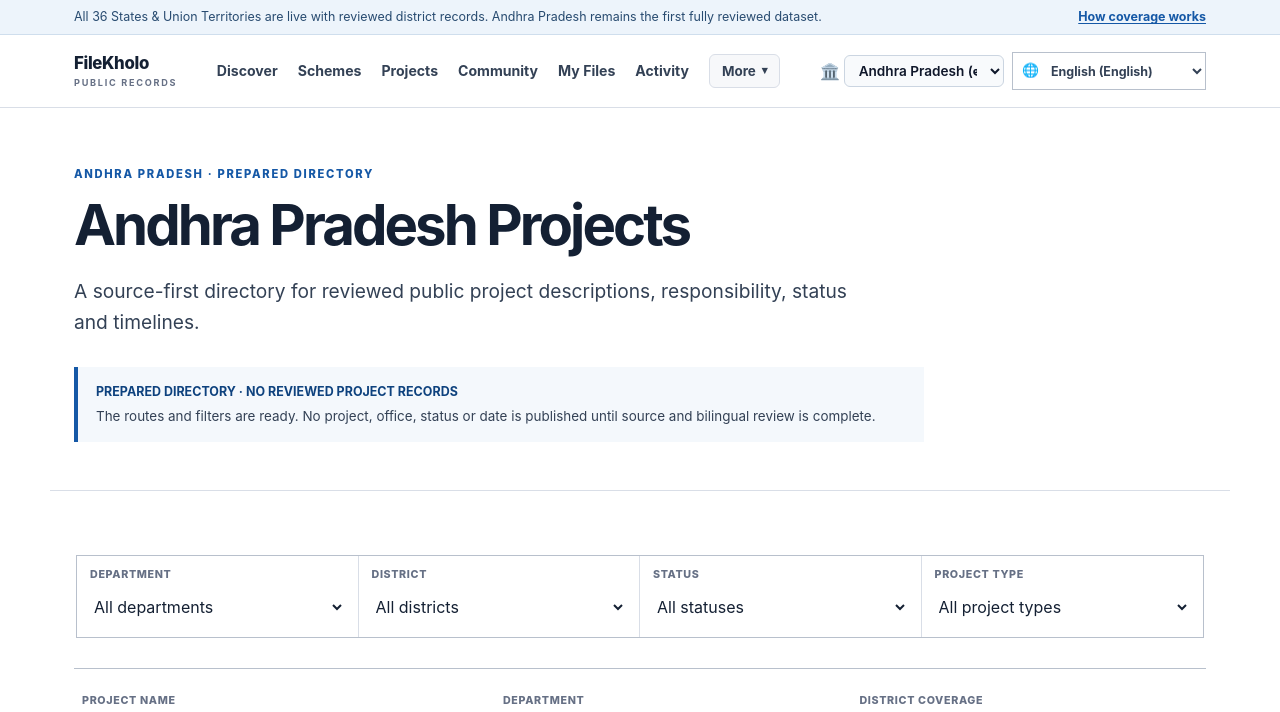
ProjectsDirectory › renders bilingual claims, timeline and all four native filters
Select "Test District" in the dropdown labelled "District" at (499, 607), box [372,588,626,626]
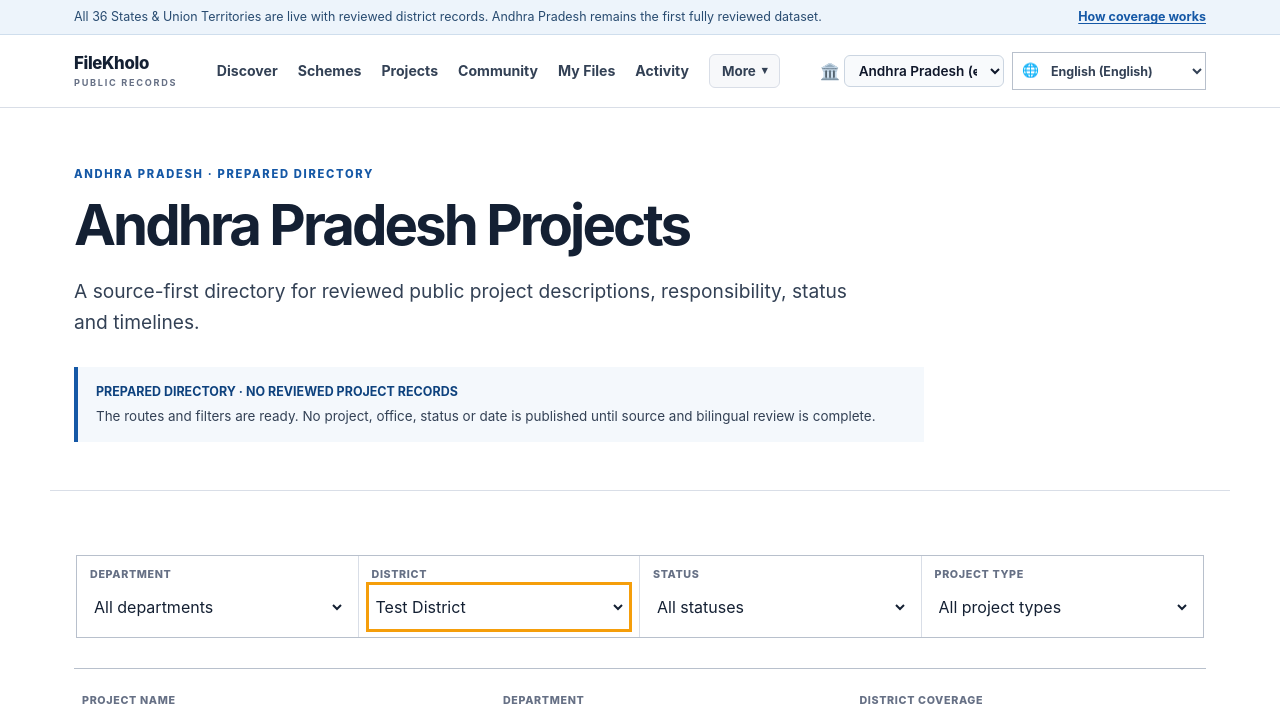
Select "In progress" in the dropdown labelled "Status" at (780, 607), box [653,588,908,626]
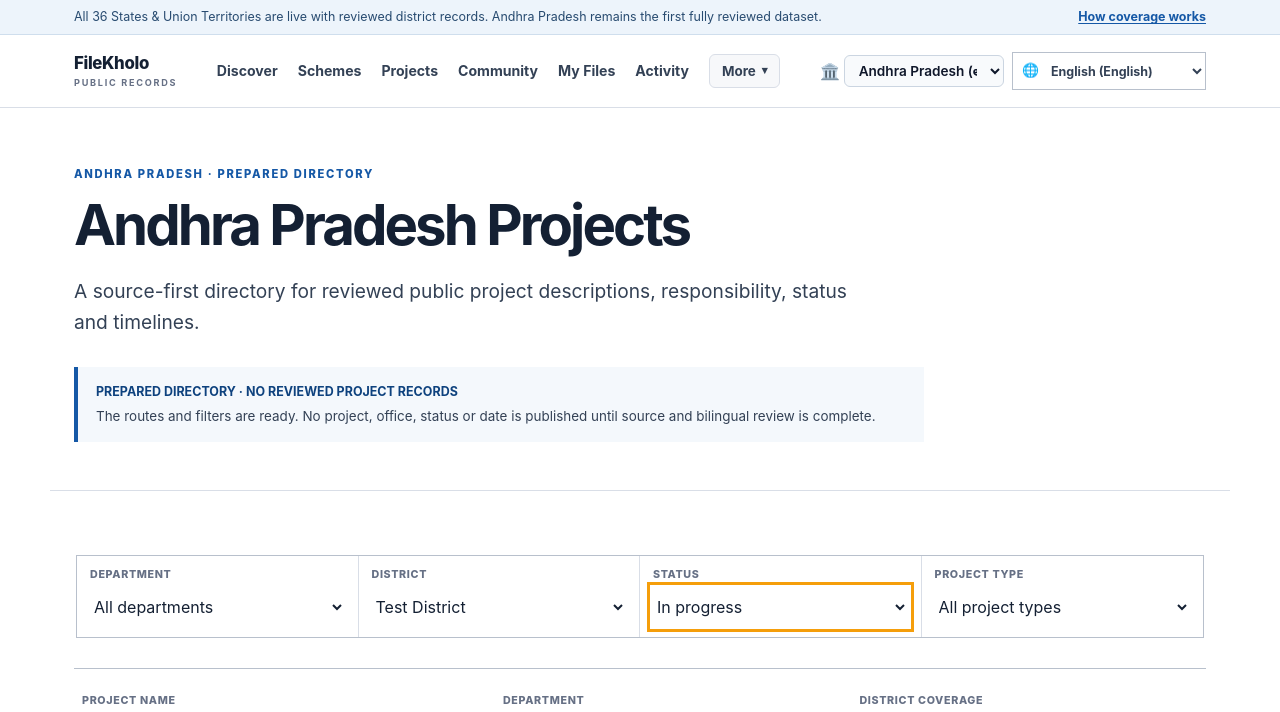
Select "Water infrastructure" in the dropdown labelled "Project type" at (1062, 607), box [934,588,1190,626]
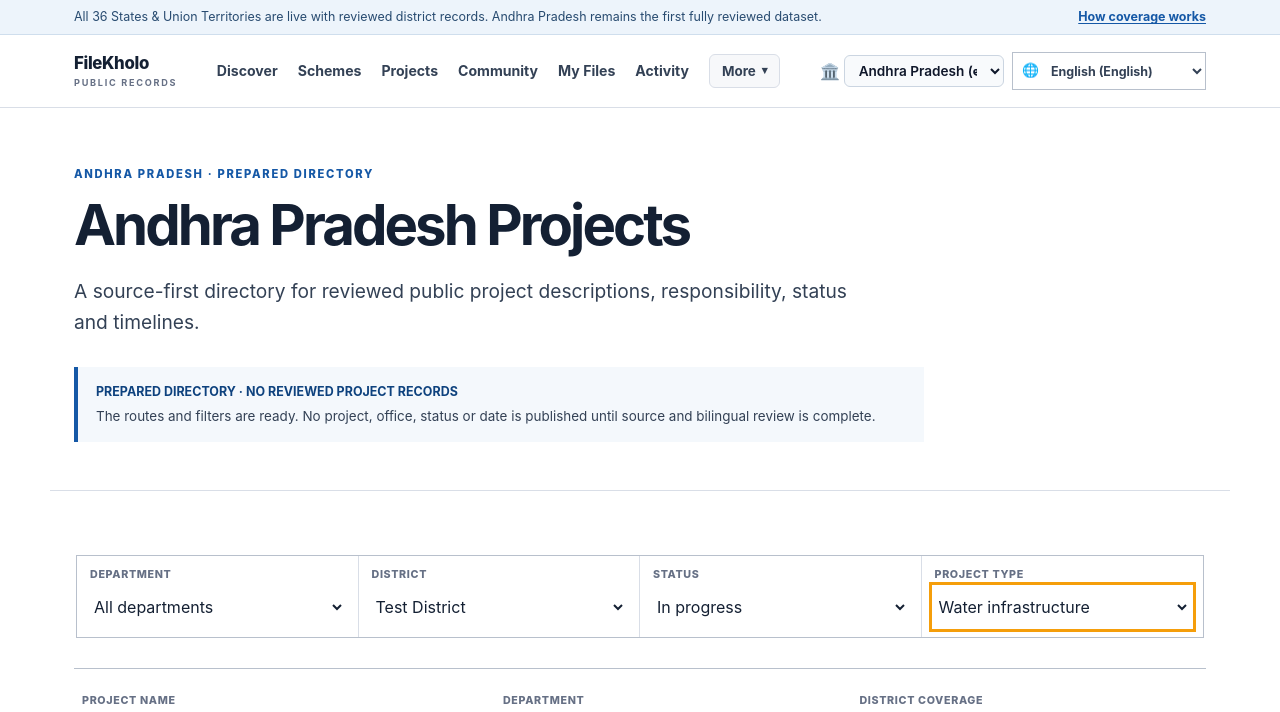
Select "Water Department" in the dropdown labelled "Department" at (217, 607), box [90,588,344,626]
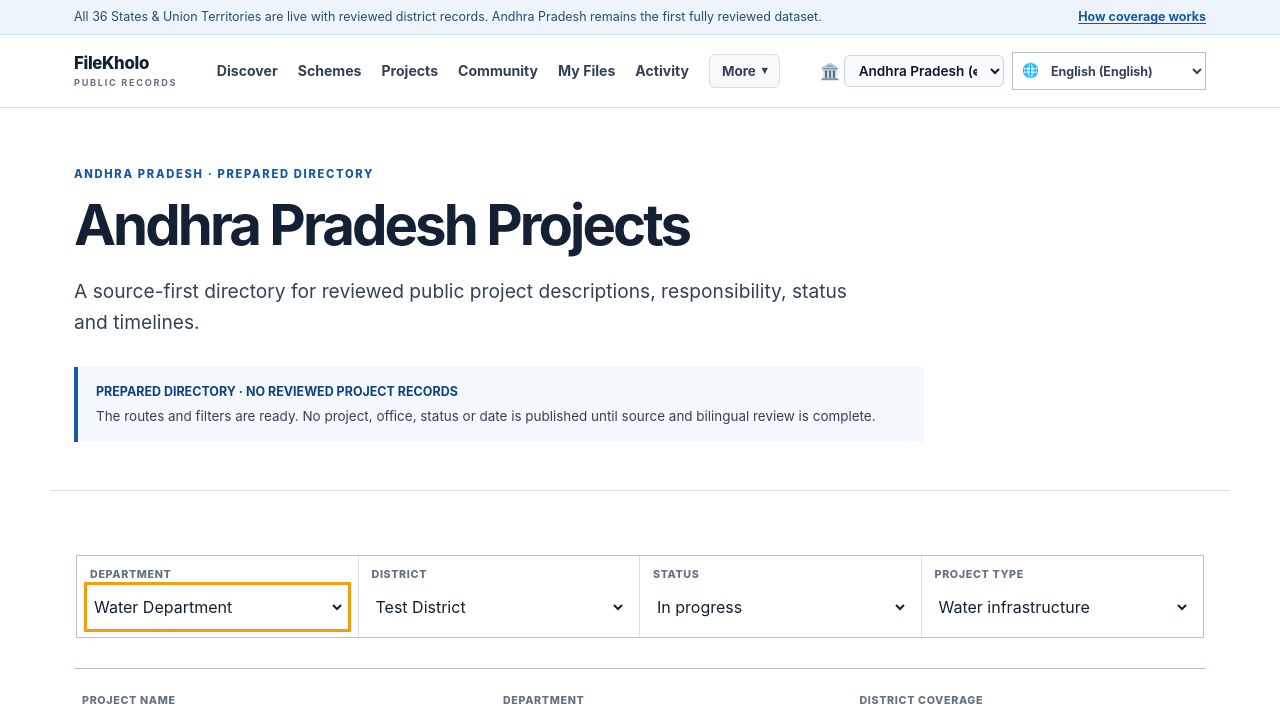
Select "తెలుగు (Telugu)" in the dropdown named "Select language" at (1122, 71), box [1039,53,1205,89]
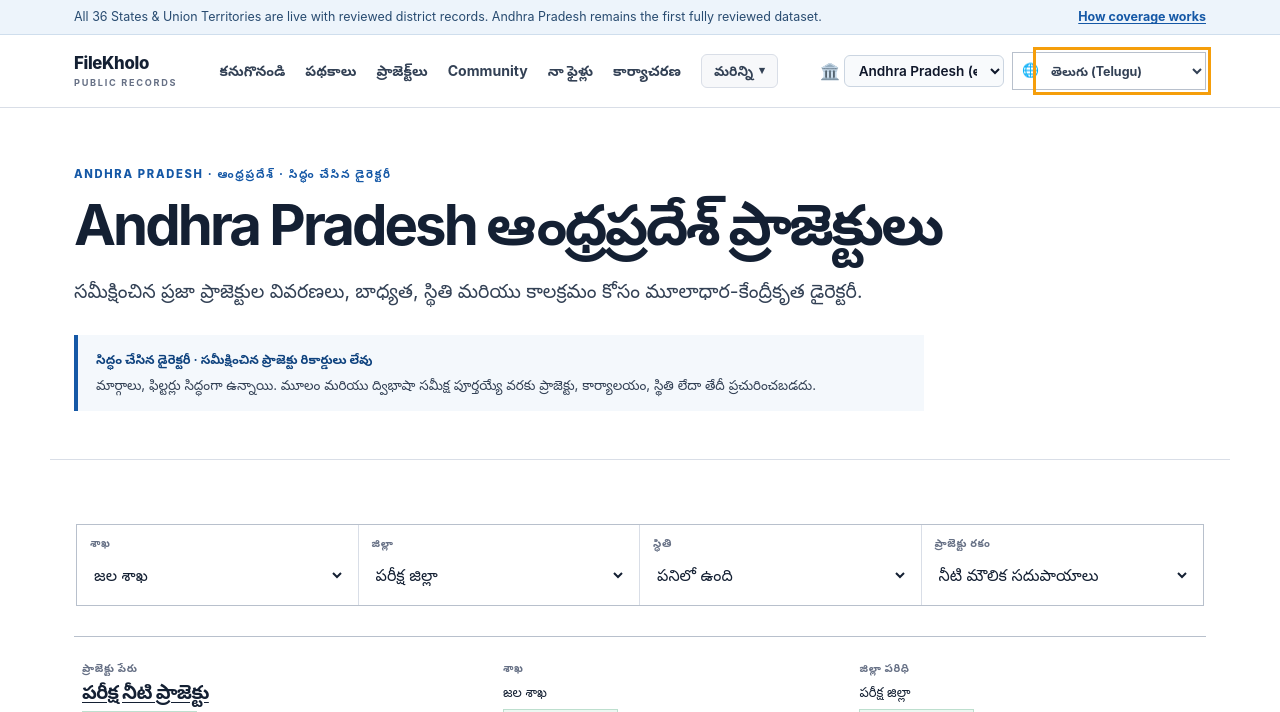
Now the heading "పరీక్ష నీటి ప్రాజెక్టు" is shown, box [82,680,209,704]
